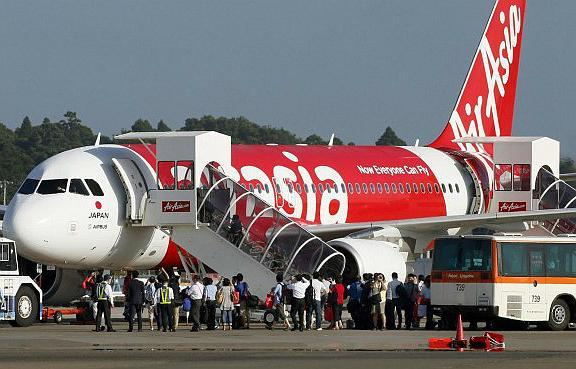airplane: (6, 1, 559, 272)
